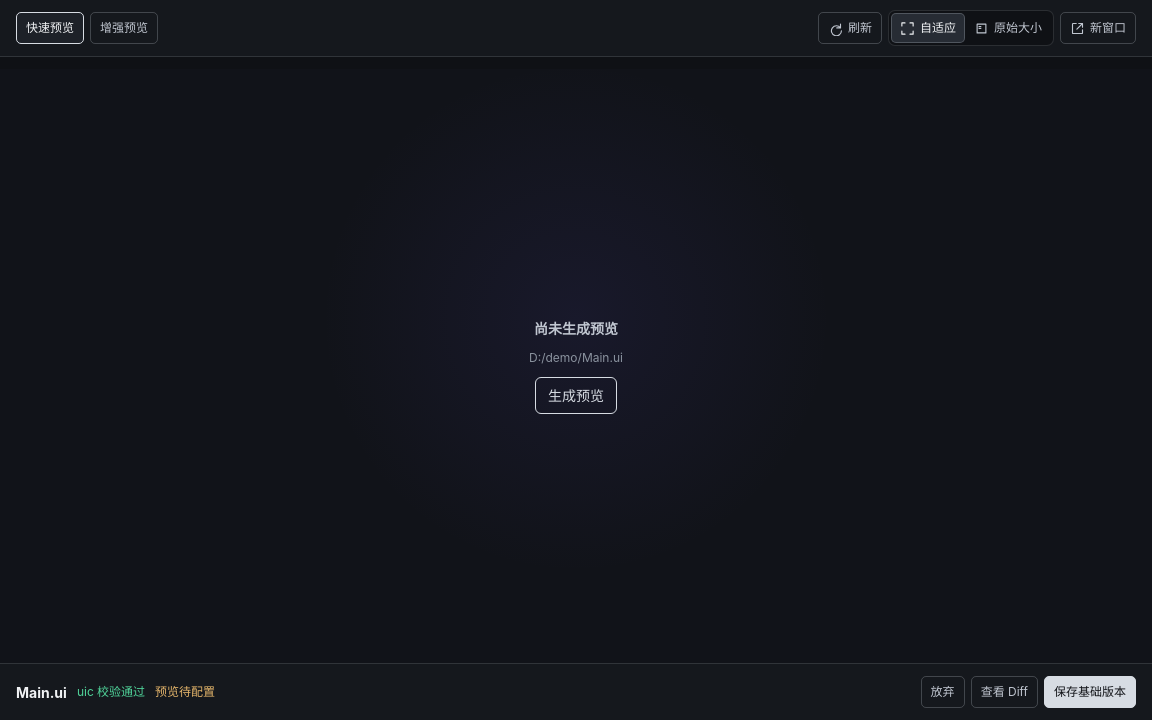
Test: UiPreviewTab › uses a full preview surface and still allows saving a uic-valid candidate after a preview failure
Later steps or results of the test are not shown.
Click the button with aria-label "刷新预览".
click(850, 28)  # box [818, 12, 882, 44]
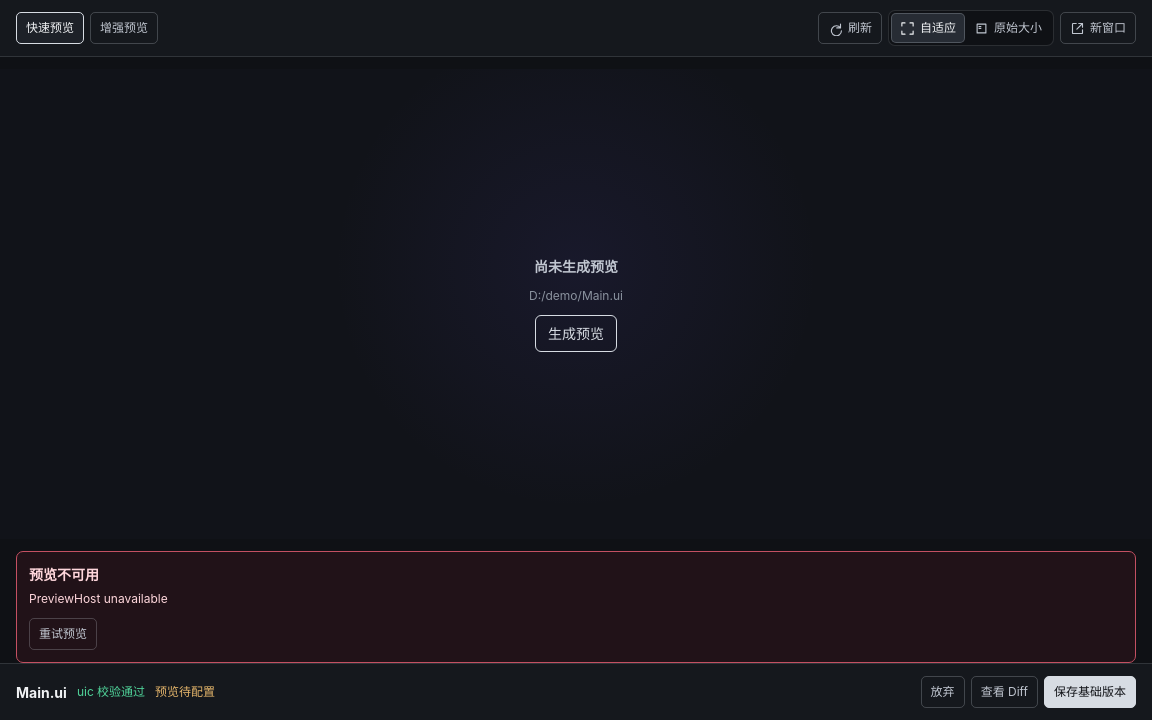
Expected: the button "保存基础版本" is enabled, [1044, 676, 1136, 708]
Expected: the message shows "PreviewHost unavailable", [29, 591, 168, 606]
